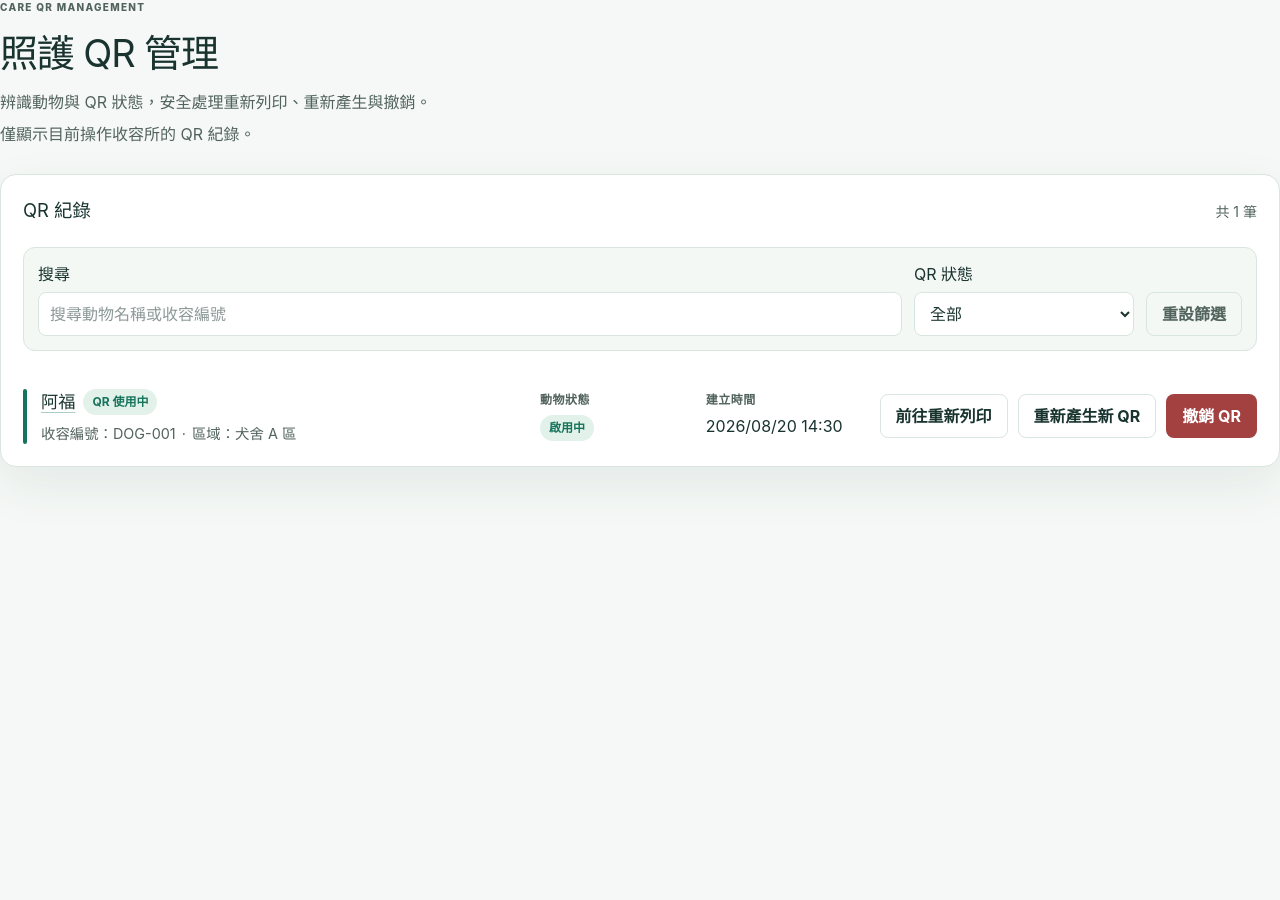
Scenario: animal-aware care QR management list › preserves regenerate invalidation warning and replacement guidance
Click the button "重新產生新 QR" at point(1087, 416), box [1018,394,1156,438]
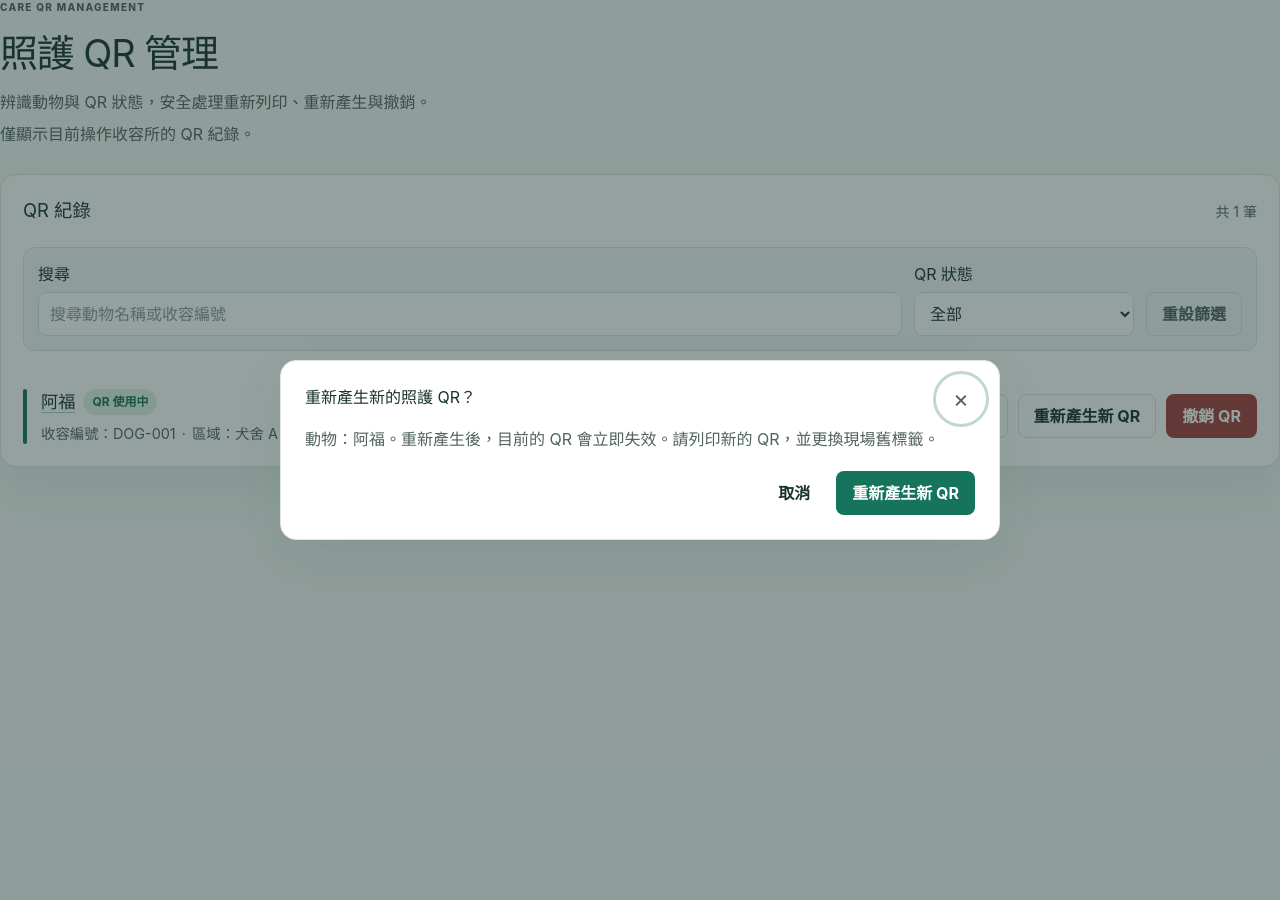
Now the text "目前的 QR 會立即失效" is shown, box [401,429,940,449]
Click the button "重新產生新 QR" at point(906, 493), box [836,471,975,515]
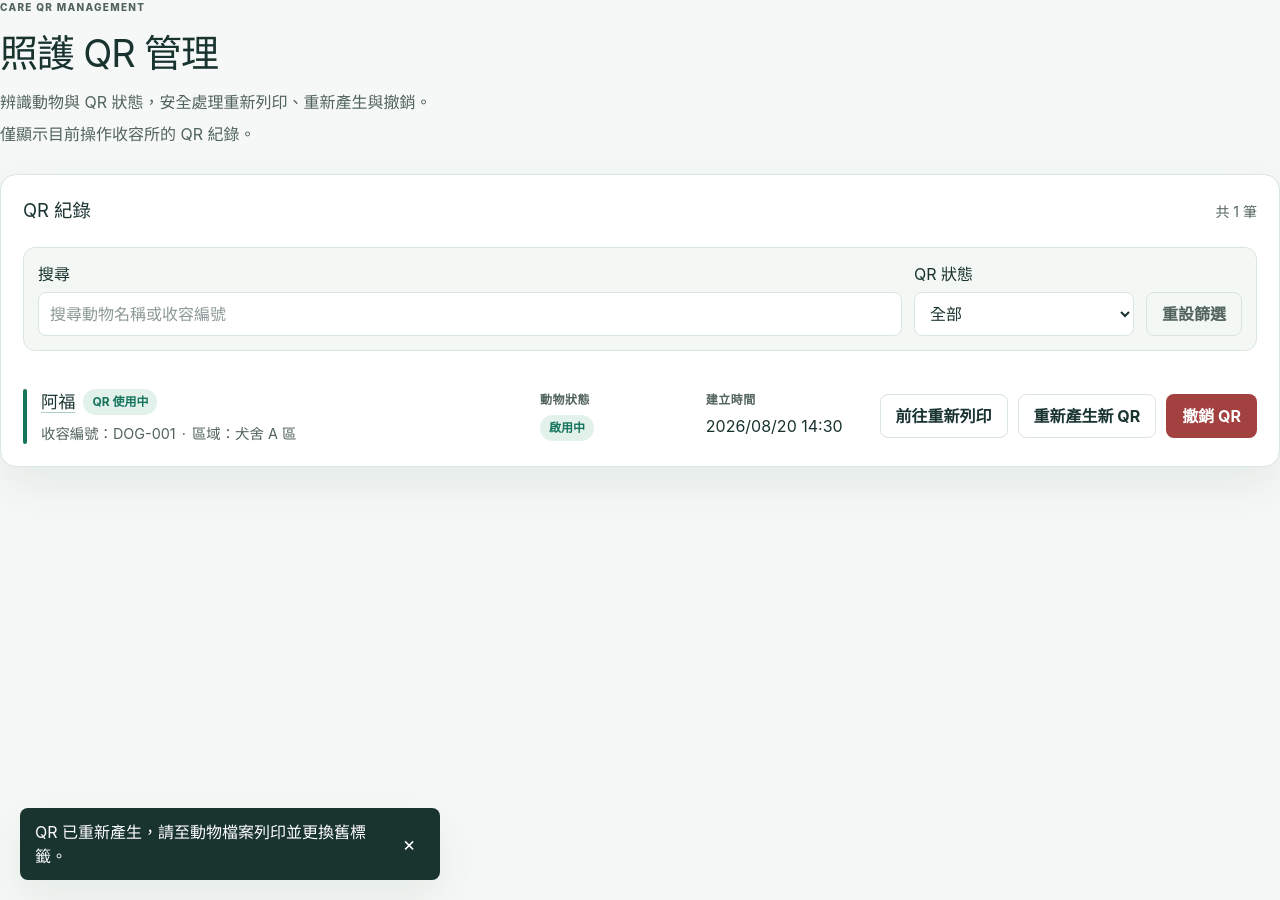
Now the text "QR 已重新產生，請至動物檔案列印並更換舊標籤。" is shown, box [35,820,381,868]
